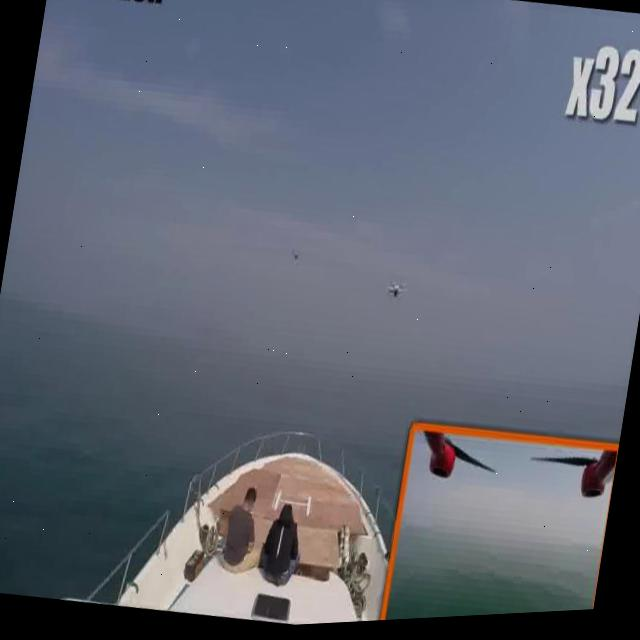drone: (384, 271, 409, 310), (281, 245, 305, 280)
